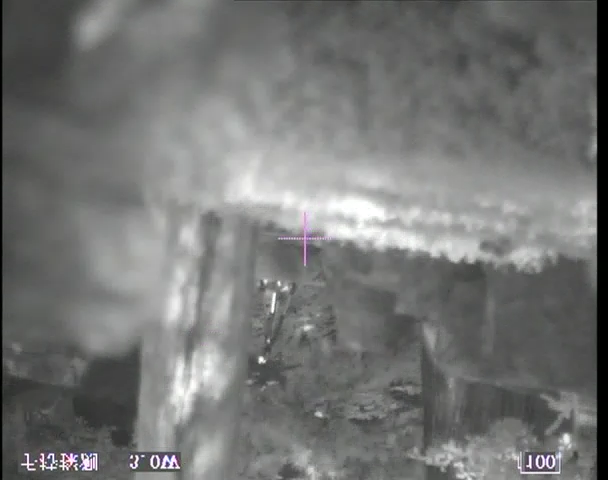my: (257, 356, 267, 365)
